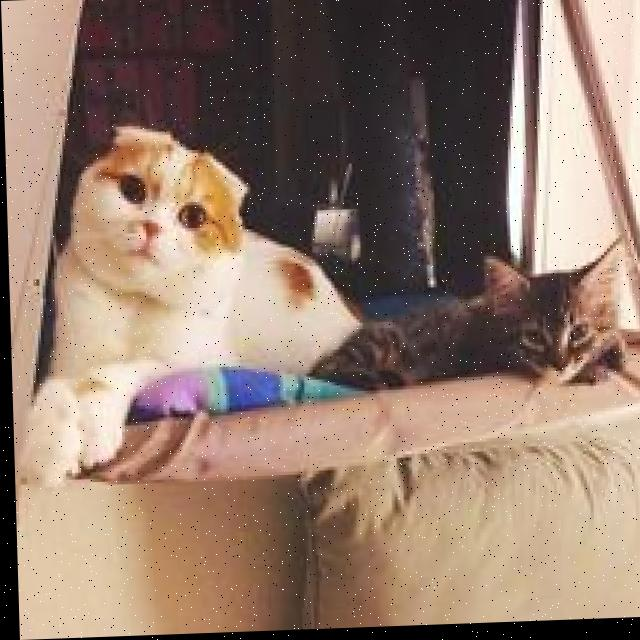Scottish Fold: (7, 112, 359, 490)
